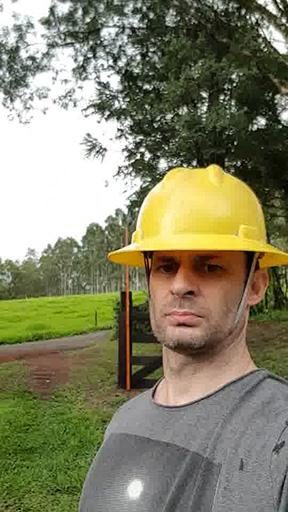Vara_Manobra: (122, 226, 132, 390)
